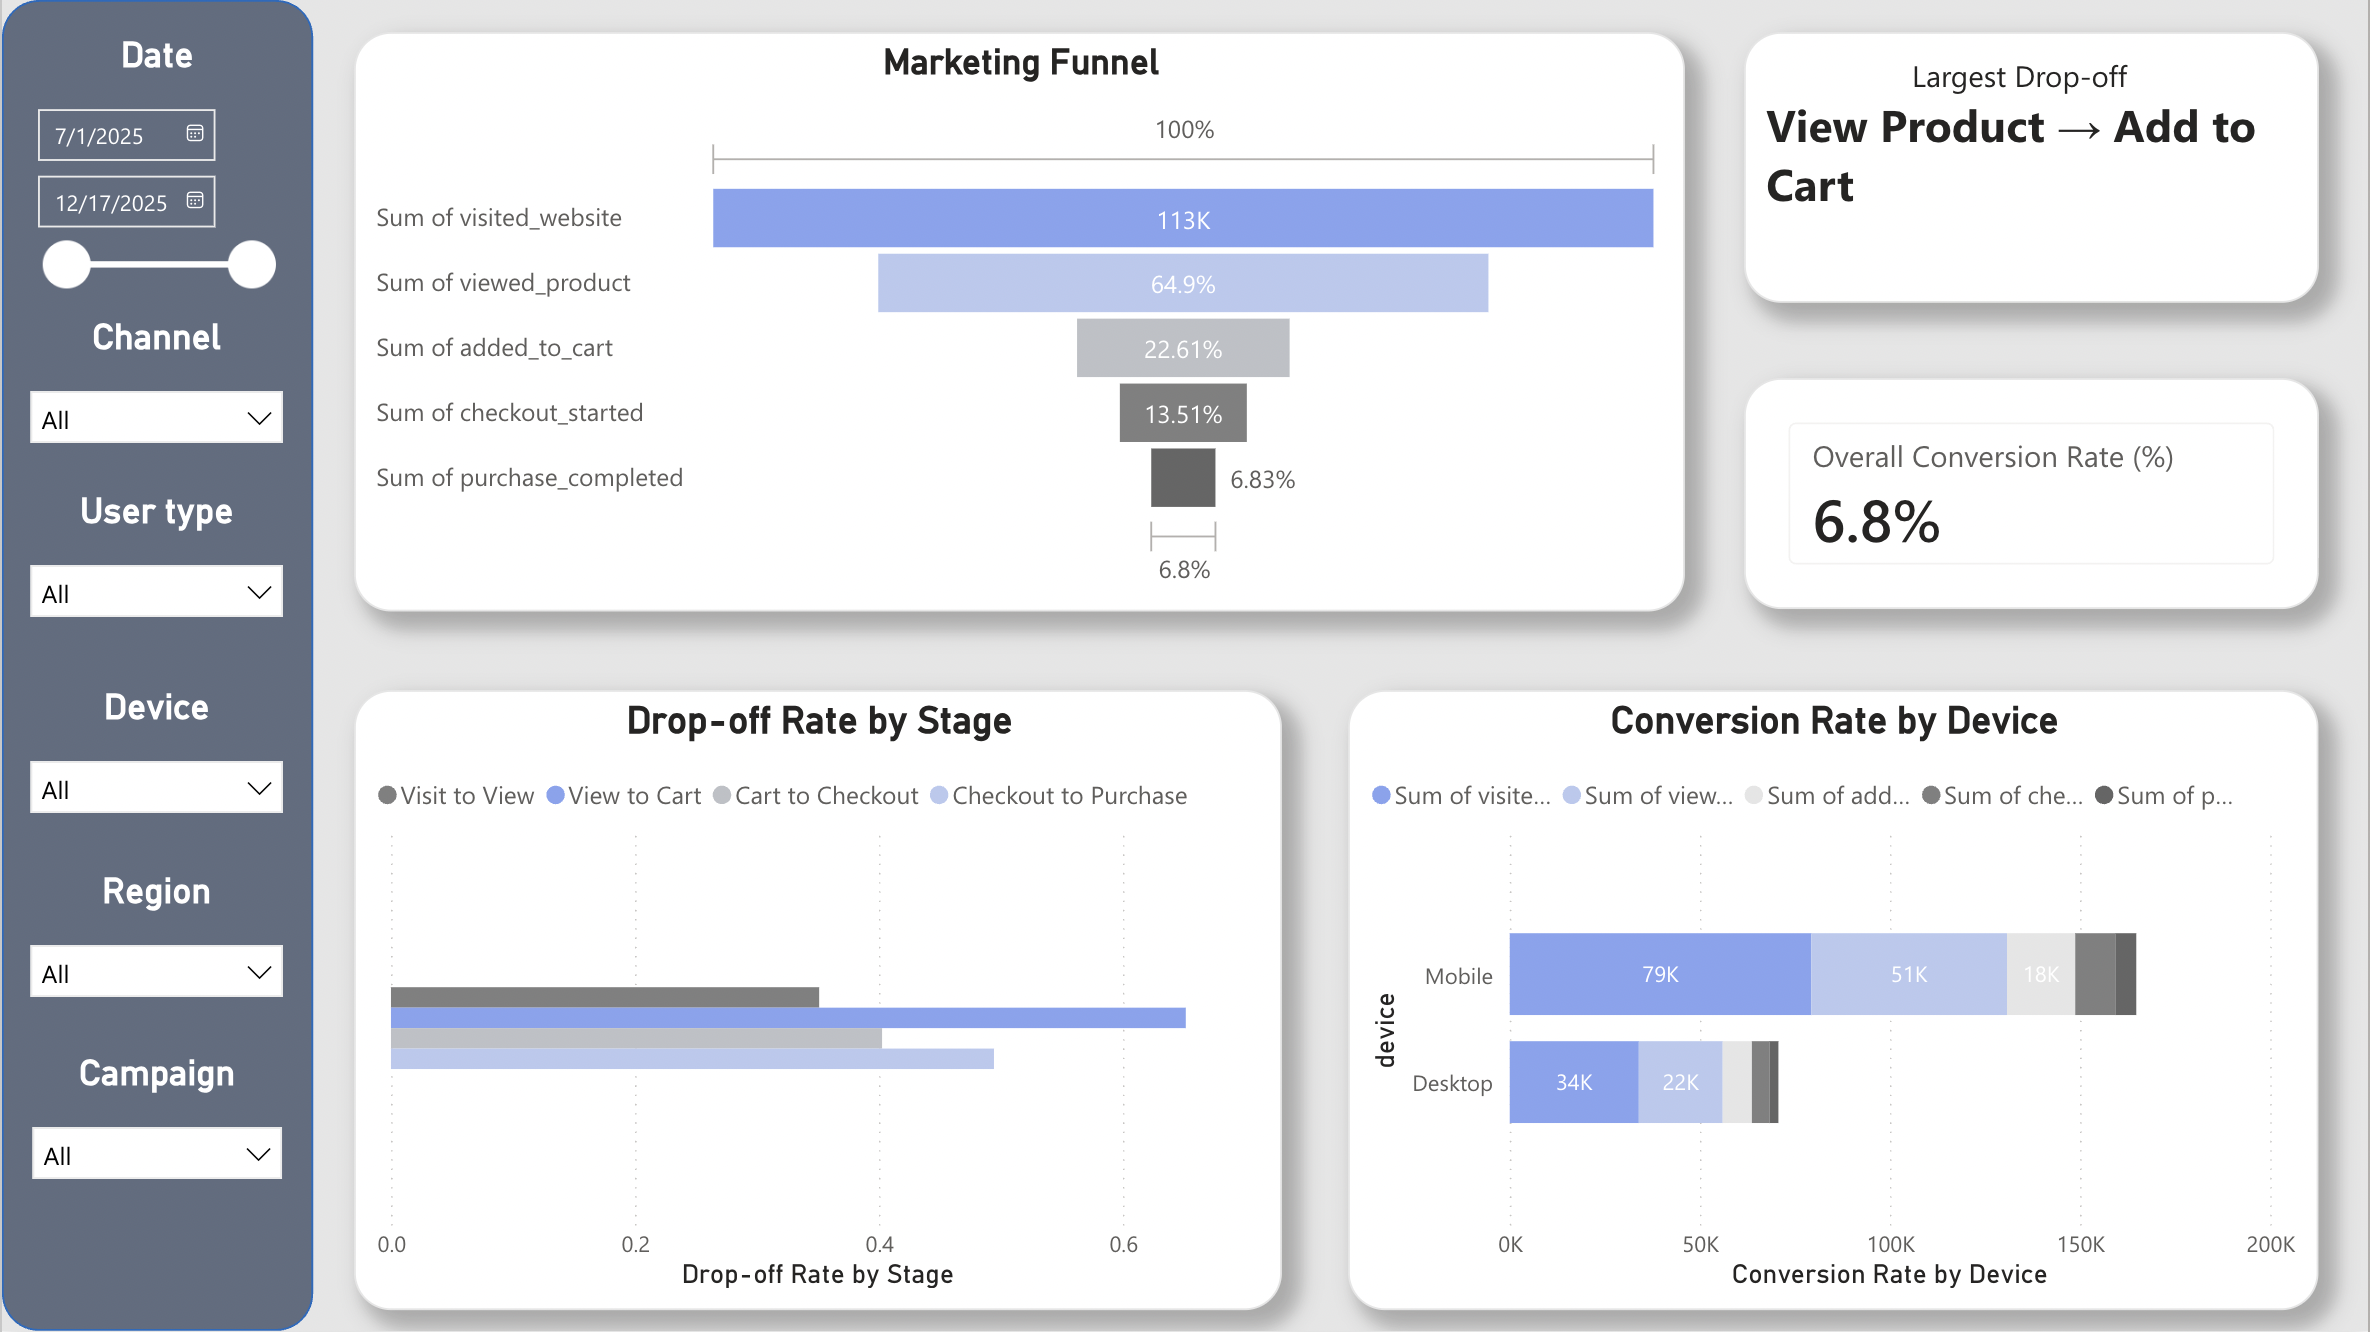

What the dashboard file says about the page in this screenshot:
{"tool":"powerbi","page":{"name":"Marketing Funnel Analysis","canvas":[1280,720],"ordinal":1},"visuals":[{"type":"funnel","title":"Marketing Funnel","fields":{"Y":["Sum(clean_data_for_analysis.visited_website)","Sum(clean_data_for_analysis.viewed_product)","Sum(clean_data_for_analysis.added_to_cart)","Sum(clean_data_for_analysis.checkout_started)","Sum(clean_data_for_analysis.purchase_completed)"]},"box":[190.7,16.8,720,313.3],"z":0},{"type":"barChart","title":"Conversion Rate by Device","fields":{"Y":["Sum(clean_data_for_analysis.visited_website)","Sum(clean_data_for_analysis.viewed_product)","Sum(clean_data_for_analysis.added_to_cart)","Sum(clean_data_for_analysis.checkout_started)","Sum(clean_data_for_analysis.purchase_completed)"],"Category":["clean_data_for_analysis.device"]},"box":[727.7,373.8,524.8,335.6],"z":1000},{"type":"shape","box":[0,0,168.3,720],"z":2000},{"type":"slicer","title":"Date","fields":{"Values":["clean_data_for_analysis.date"]},"box":[6.6,20.9,155,151.7],"z":3000},{"type":"slicer","title":"Channel","fields":{"Values":["clean_data_for_analysis.channel"]},"box":[5.5,173.1,156.7,78.3],"z":4000},{"type":"slicer","title":"User type","fields":{"Values":["clean_data_for_analysis.user_type"]},"box":[5.5,266.8,156.7,75],"z":5000},{"type":"slicer","title":"Device","fields":{"Values":["clean_data_for_analysis.device"]},"box":[5.5,373.8,156.7,75],"z":6000},{"type":"slicer","title":"Region","fields":{"Values":["clean_data_for_analysis.region"]},"box":[5.5,473,156.7,76.7],"z":7000},{"type":"slicer","title":"Campaign ","fields":{"Values":["clean_data_for_analysis.campaign_type"]},"box":[6.6,571.1,155,70],"z":8000},{"type":"cardVisual","fields":{"Data":["clean_data_for_analysis.Overall Conversion Rate (%)"]},"box":[942.8,204.4,311.2,125.1],"z":9000},{"type":"textbox","box":[942.8,16.8,311.2,146.5],"z":10000},{"type":"clusteredBarChart","title":"Drop-off Rate by Stage","fields":{"Y":["clean_data_for_analysis.Visit to View","clean_data_for_analysis.View to Cart","clean_data_for_analysis.Cart to Checkout","clean_data_for_analysis.Checkout to Purchase"]},"box":[190.7,373.8,501.9,335.6],"z":11000}]}

Visuals, with their boxes in screenshot pixels (x1, y1, x2, y2), scaled from the page's 1280x720 canvas onto the 2372x1332 screenshot:
"Marketing Funnel" funnel: 353,31,1688,611
"Conversion Rate by Device" barChart: 1349,692,2321,1312
shape: 0,0,312,1331
"Date" slicer: 12,39,299,319
"Channel" slicer: 10,320,301,465
"User type" slicer: 10,494,301,632
"Device" slicer: 10,692,301,830
"Region" slicer: 10,875,301,1017
"Campaign " slicer: 12,1057,299,1186
cardVisual - clean_data_for_analysis.Overall Conversion Rate (%): 1747,378,2324,610
textbox: 1747,31,2324,302
"Drop-off Rate by Stage" clusteredBarChart: 353,692,1283,1312
